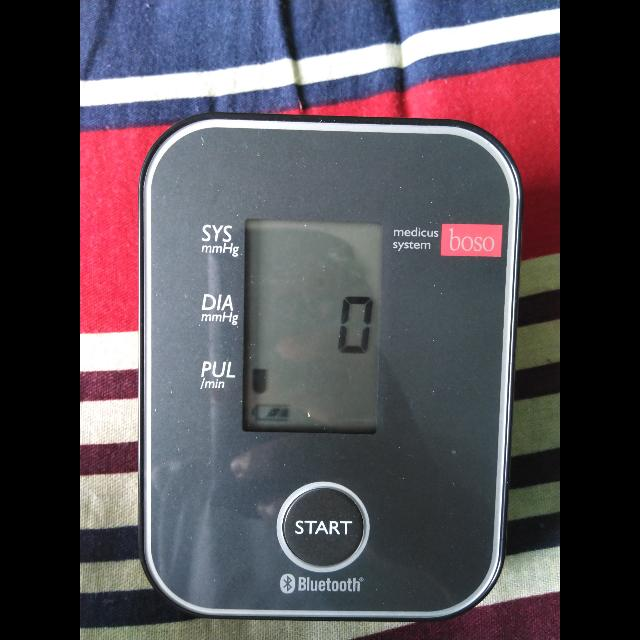Blood-Pressure-Monitor: (133, 105, 517, 631)
